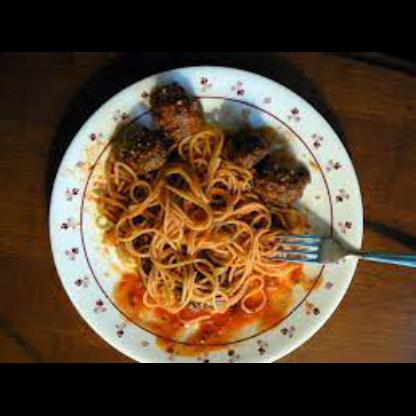spaghetti: (93, 84, 310, 326)
